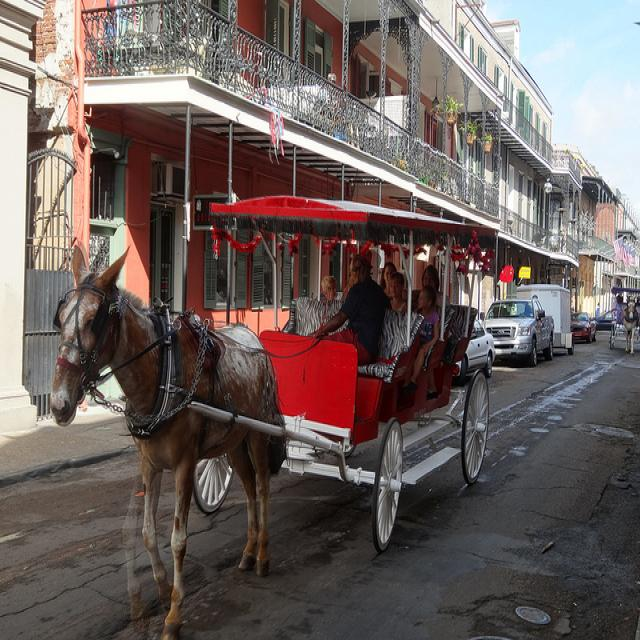Vehicle: (479, 294, 557, 366), (517, 284, 575, 354), (453, 317, 496, 387), (570, 312, 597, 343), (591, 309, 618, 332)
